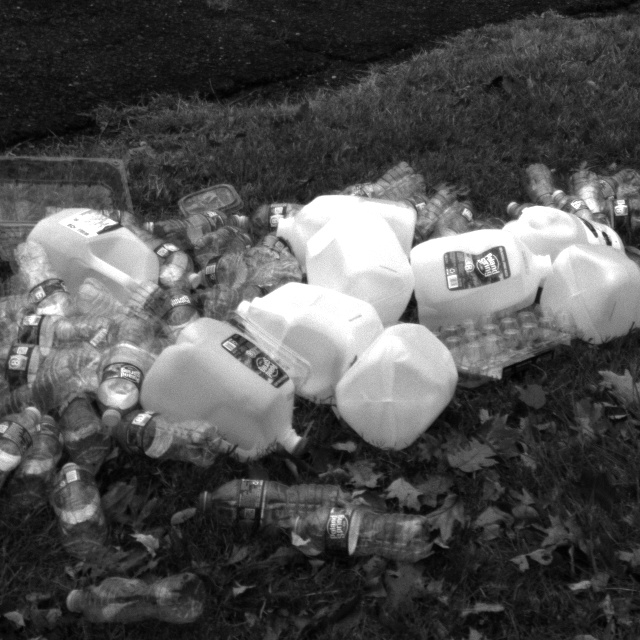bottle: (252, 505, 445, 576), (38, 562, 217, 627), (200, 465, 391, 520), (39, 438, 119, 567), (93, 310, 160, 432), (0, 308, 131, 369), (0, 400, 50, 532), (581, 180, 640, 237)
can: (224, 260, 393, 407), (152, 308, 312, 457), (322, 301, 471, 458), (17, 205, 167, 320), (408, 216, 548, 324), (269, 186, 429, 270), (521, 243, 640, 350), (300, 222, 419, 315), (503, 206, 610, 254)
container: (0, 138, 145, 276), (427, 281, 586, 391), (176, 167, 245, 239)
